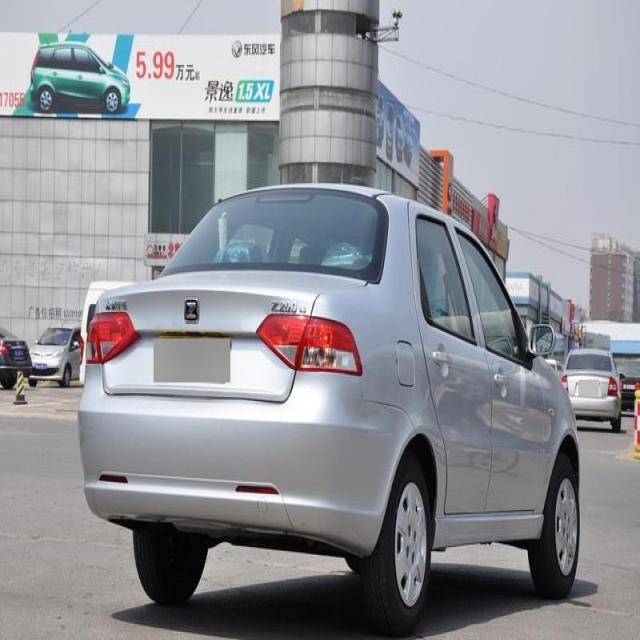back_glass: (154, 187, 384, 276)
back_left_side_light: (255, 305, 363, 376)
back_right_side_light: (82, 305, 136, 368)
door: (407, 202, 491, 528)
front_right_side_door: (450, 211, 546, 527)
front_right_side_mirror: (528, 319, 556, 369)
rear_bumper: (78, 374, 405, 540)
wheel: (367, 465, 432, 620), (130, 519, 212, 608), (532, 458, 582, 591)
